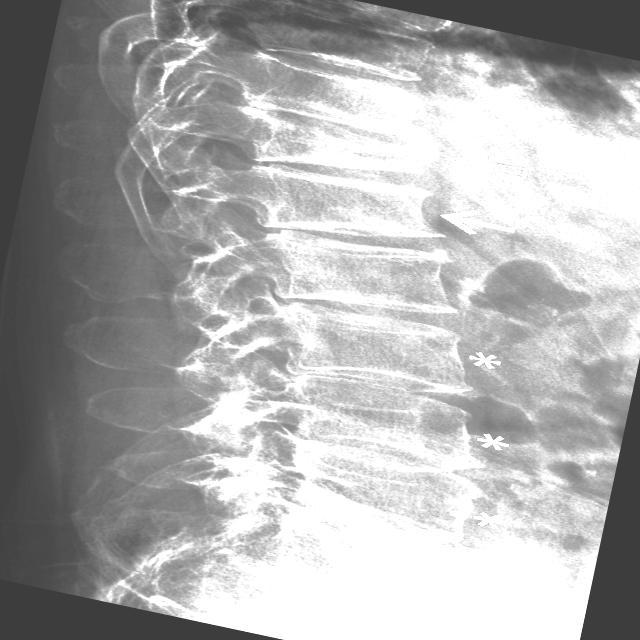Compression-Crush Fracutre: (262, 230, 466, 321), (247, 165, 444, 242)
